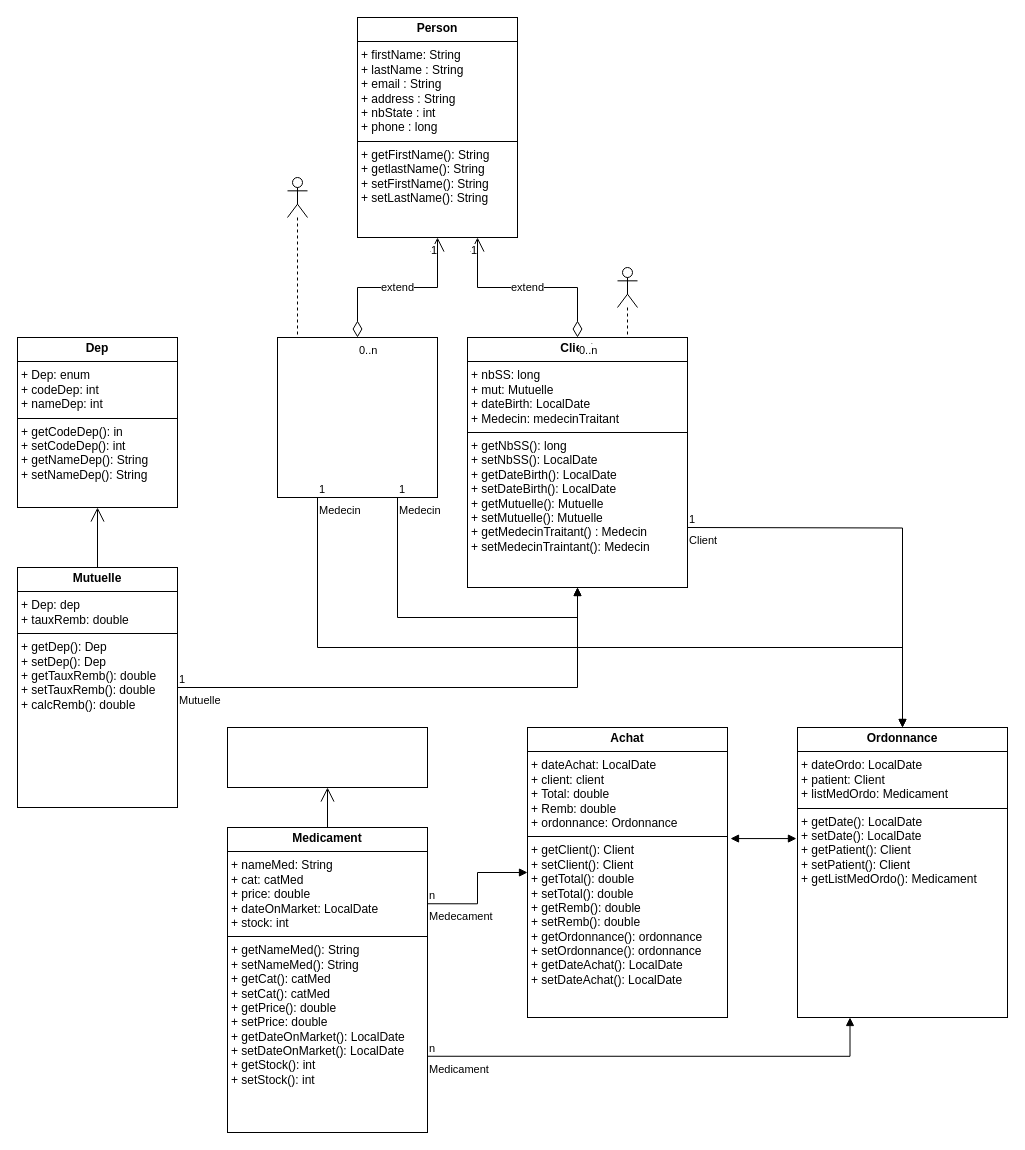
The diagram is 1025 pixels wide and 1150 high, and some of its shapes have lost their labels. Here are the shapes that lost their labels. From the top down, the centre of each, then its label:
At (357,417): "Medecin + nbAgreement: long + getNbAgreement(): long + setNbAgreement(): long".
At (327,757): "catMed + catMed: enum".
